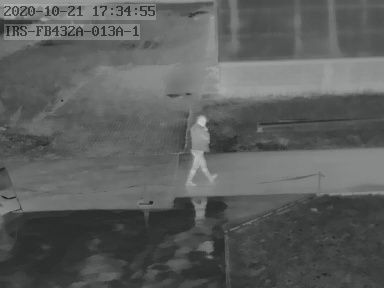person: (187, 111, 214, 182)
